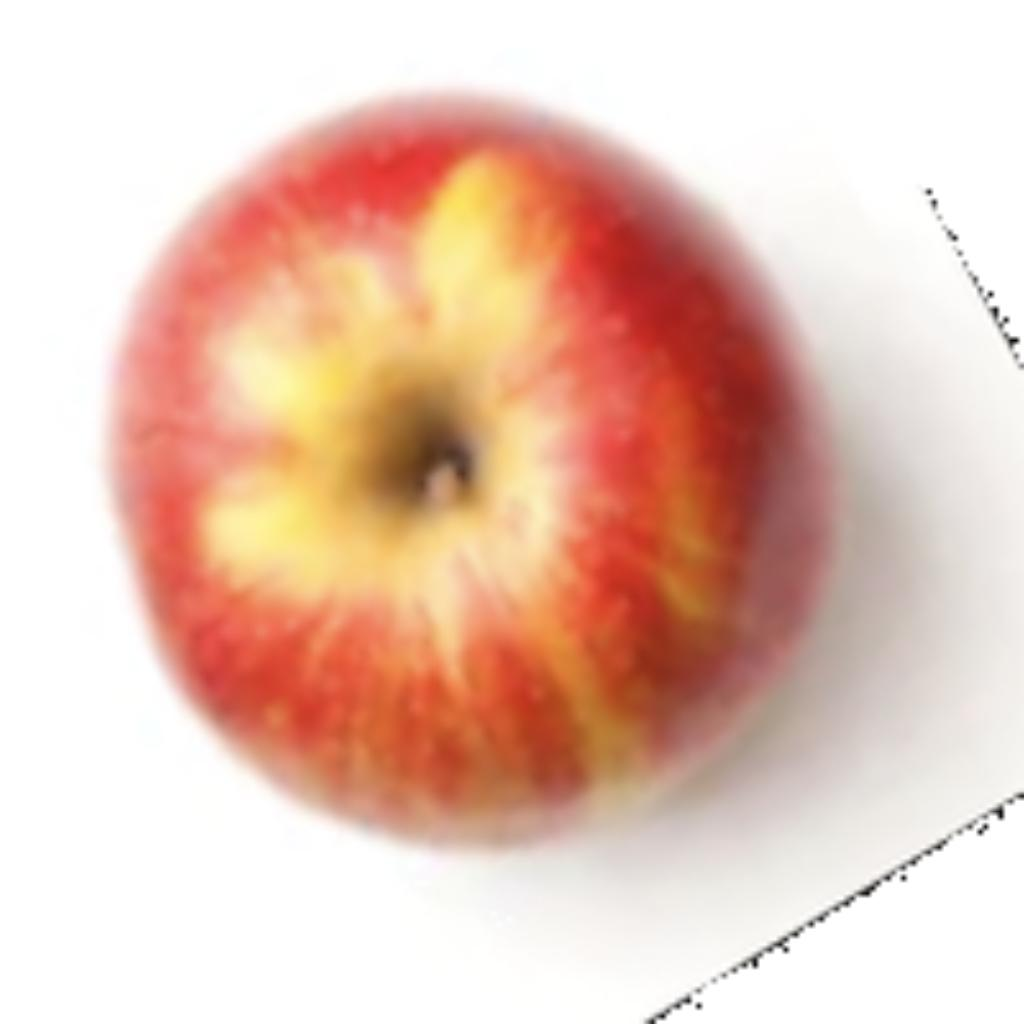apple: (87, 77, 957, 886)
